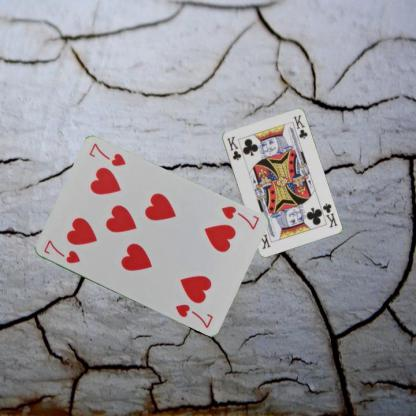7h: (218, 203, 260, 231), (40, 237, 81, 265)
Kc: (320, 200, 339, 229), (224, 134, 242, 161)
